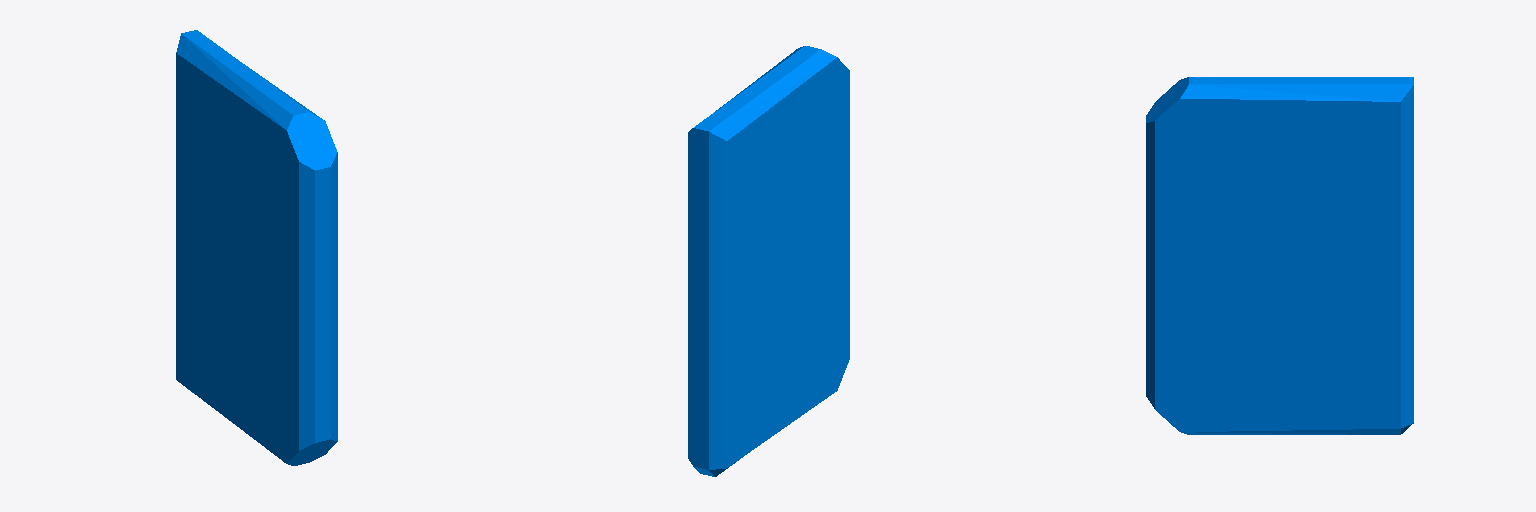
The model's file is KeyCard.obj.
3 renders of one model, left to right at view 1: azimuth 30°, elevation 25°; view 2: azimuth 150°, elevation 25°; view 3: azimuth 270°, elevation 25°, orthographic.
Visible parts, largest first — view 1: KeyCard; view 2: KeyCard; view 3: KeyCard.
Boxes of the visible parts, <box> form: KeyCard: <box>176,30,337,465</box>; KeyCard: <box>688,46,849,476</box>; KeyCard: <box>1146,77,1413,434</box>.
Bounding box in the file's own units: 0.03 × 0.26 × 0.18.